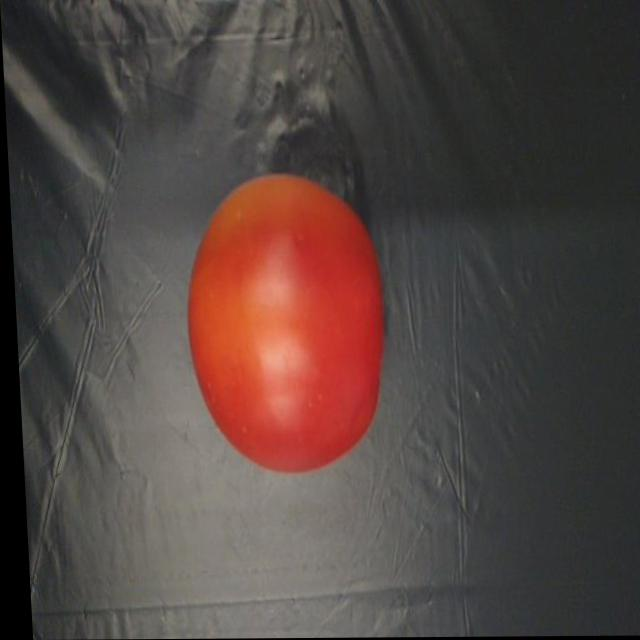kirmizi: (145, 124, 433, 503)
